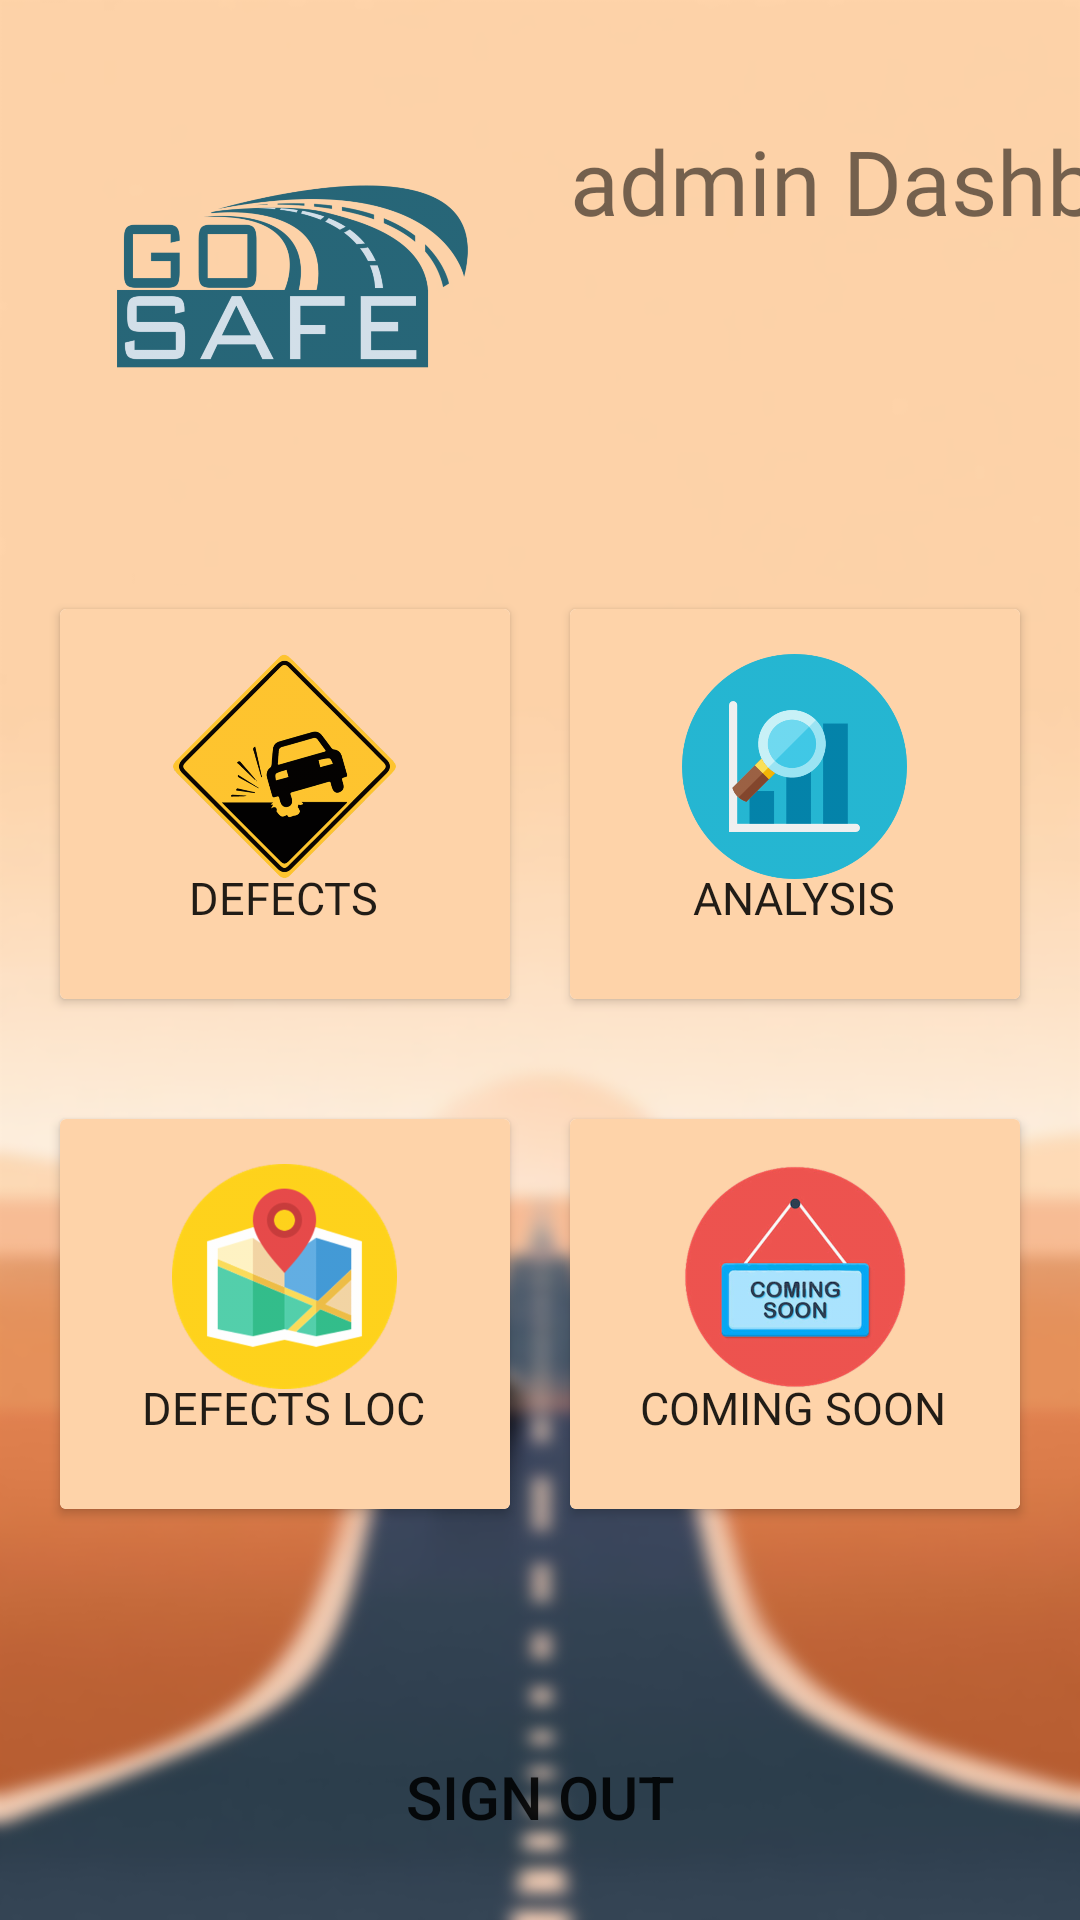

Point at icon controls on the screen. Image size 1080 x 1920, points as (x,y).
map: (284,1276)
warning pothole: (284,766)
